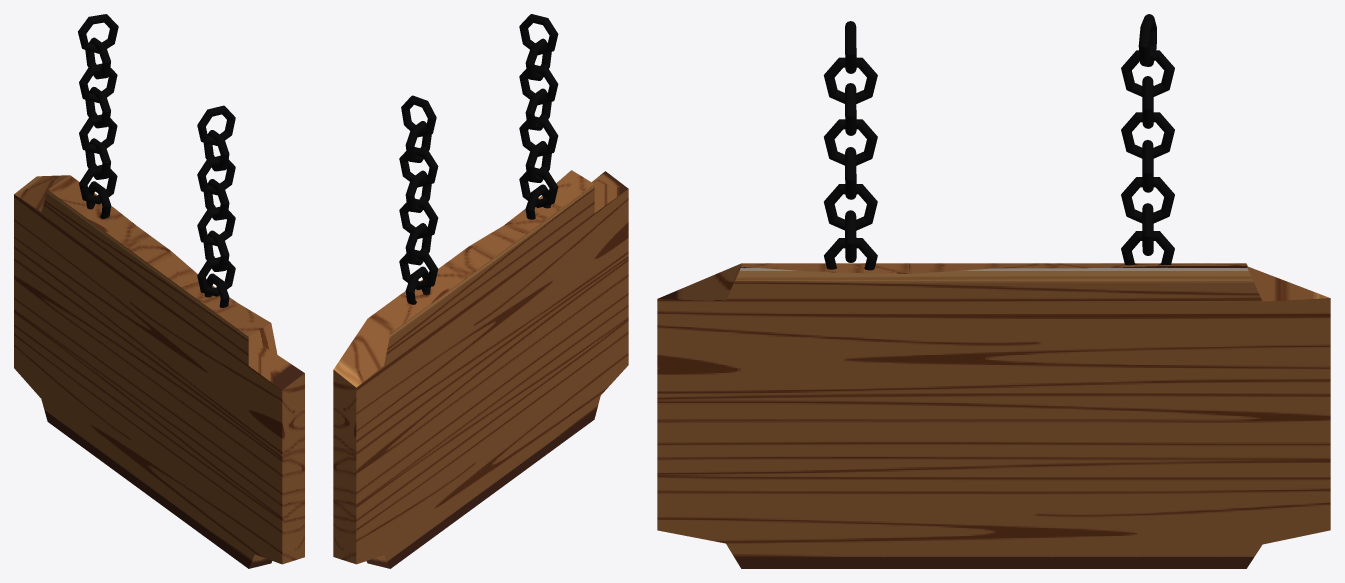
Rendered from Hanging Sign.fbx.
3 views of the same model, side by side, from view 1: azimuth 30°, elevation 25°; view 2: azimuth 150°, elevation 25°; view 3: azimuth 270°, elevation 25° (orthographic). The views are drawn at different scales.
Visible parts, largest first — view 1: Sig, Hanging_2, Hanging_!; view 2: Sig, Hanging_2, Hanging_!; view 3: Sig, Hanging_2, Hanging_!.
Boxes of the visible parts, x1=… form: Sig: x1=14, y1=175, x2=304, y2=568; Hanging_2: x1=78, y1=14, x2=118, y2=218; Hanging_!: x1=197, y1=105, x2=235, y2=307; Sig: x1=333, y1=170, x2=628, y2=568; Hanging_2: x1=399, y1=95, x2=438, y2=304; Hanging_!: x1=519, y1=14, x2=558, y2=219; Sig: x1=657, y1=263, x2=1330, y2=568; Hanging_2: x1=1121, y1=14, x2=1174, y2=265; Hanging_!: x1=823, y1=21, x2=877, y2=270.
Bounding box in the file's own units: 16.09 × 178 × 200.
